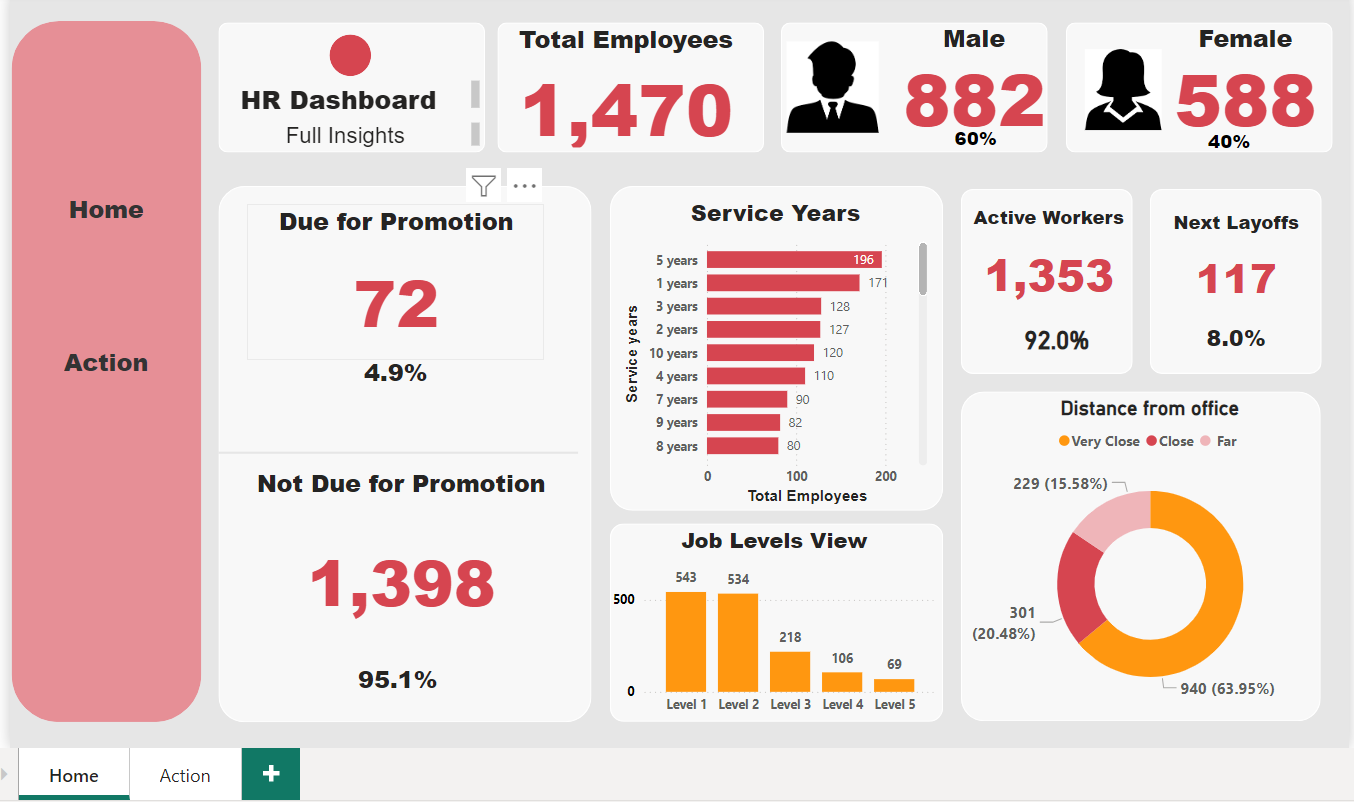

This screenshot's page, from the dashboard's own definition file:
{"tool":"powerbi","page":{"name":"Home","canvas":[1280,720],"ordinal":0},"visuals":[{"type":"shape","box":[198.8,27,254.5,124.1],"z":0},{"type":"shape","box":[466,27,254.5,124.1],"z":1000},{"type":"shape","box":[736.5,27,254.5,124.1],"z":2000},{"type":"shape","box":[1008.4,27,254.5,124.1],"z":3000},{"type":"shape","box":[198.8,182.9,356.3,512.2],"z":4000},{"type":"shape","box":[572.6,182.9,318.1,310.2],"z":5000},{"type":"shape","box":[572.6,505.8,318.1,189.3],"z":6000},{"type":"shape","box":[908.2,186.1,163.8,176.6],"z":7000},{"type":"shape","box":[1088,186.1,163.8,176.6],"z":8000},{"type":"shape","box":[908.2,380.2,343.6,314.9],"z":9000},{"type":"textbox","box":[257.7,117.7,195.6,33.4],"z":10000},{"type":"shape","box":[305.4,38.2,39.8,39.8],"z":11000},{"type":"card","title":"Total Employees","fields":{"Values":["All Measures.Total Emp"]},"box":[470.8,27,233.8,124.1],"z":12000},{"type":"textbox","box":[198.8,77.9,254.5,39.8],"z":13000},{"type":"card","title":"Male","fields":{"Values":["All Measures.Male"]},"box":[823.9,25.4,194.1,108.2],"z":14000},{"type":"card","title":"Female","fields":{"Values":["All Measures.Female"]},"box":[1078.4,25.4,202,108.2],"z":15000},{"type":"card","fields":{"Values":["All Measures.% male"]},"box":[804.8,77.9,233.8,124.1],"z":16000},{"type":"card","fields":{"Values":["All Measures.% Female"]},"box":[1046.6,79.5,233.8,124.1],"z":17000},{"type":"image","box":[736.5,36.6,98.6,103.4],"z":18000},{"type":"image","box":[1018,47.7,89.1,87.5],"z":19000},{"type":"card","title":"Due for Promotion","fields":{"Values":["All Measures.Due for promotion"]},"box":[225.9,200.4,284.7,149.5],"z":20000},{"type":"card","fields":{"Values":["All Measures.% Due for Promotion"]},"box":[233.8,308.6,268.8,108.2],"z":21000},{"type":"shape","box":[198.8,275.2,343.6,326.1],"z":22000},{"type":"card","title":"Not Due for Promotion","fields":{"Values":["All Measures.Not Due"]},"box":[205.2,451.7,337.2,181.3],"z":23000},{"type":"card","fields":{"Values":["All Measures.% No Due"]},"box":[259.3,602.8,221.1,105],"z":24000},{"type":"barChart","title":"Service Years","fields":{"Category":["HR Analytics Data.Service Year"],"Y":["All Measures.Total Emp"]},"box":[582.2,194.1,299,299],"z":25000},{"type":"columnChart","title":" Job Levels View","fields":{"Category":["HR Analytics Data.Job Levels"],"Y":["All Measures.Total Emp"]},"box":[570.7,506.5,319.4,189],"z":26000},{"type":"card","title":"Active Workers","fields":{"Values":["All Measures.On service"]},"box":[913,200.4,159.1,108.2],"z":27000},{"type":"card","fields":{"Values":["All Measures.% on service"]},"box":[935.3,299,127.2,60.4],"z":28000},{"type":"card","title":"Next Layoffs","fields":{"Values":["All Measures.layoffs"]},"box":[1100.1,204.8,141.8,104.6],"z":29000},{"type":"card","fields":{"Values":["All Measures.% Layoff"]},"box":[1123,303.8,95.4,50.9],"z":30000},{"type":"donutChart","title":" Distance from office","fields":{"Category":["HR Analytics Data.Distance Status"],"Y":["All Measures.Total Emp"]},"box":[916.2,383.3,343.6,307],"z":31000},{"type":"actionButton","box":[52.5,214.7,100.2,44.5],"z":32000},{"type":"actionButton","box":[52.5,354.7,100.2,44.5],"z":33000},{"type":"shape","box":[1.6,25.4,181.3,669.6],"z":34000},{"type":"actionButton","box":[41.4,182.9,100.2,44.5],"z":35000},{"type":"actionButton","box":[41.4,329.3,100.2,44.5],"z":36000}]}

Visuals, with their boxes on the page's 1280x720 design canvas (x1, y1, x2, y2). These are canvas units, not pixel positions in the 1354x802 screenshot, which may show the page scaled, cropped or inside an application window:
shape: locate(199, 27, 453, 151)
shape: locate(466, 27, 720, 151)
shape: locate(736, 27, 991, 151)
shape: locate(1008, 27, 1263, 151)
shape: locate(199, 183, 555, 695)
shape: locate(573, 183, 891, 493)
shape: locate(573, 506, 891, 695)
shape: locate(908, 186, 1072, 363)
shape: locate(1088, 186, 1252, 363)
shape: locate(908, 380, 1252, 695)
textbox: locate(258, 118, 453, 151)
shape: locate(305, 38, 345, 78)
"Total Employees" card: locate(471, 27, 705, 151)
textbox: locate(199, 78, 453, 118)
"Male" card: locate(824, 25, 1018, 134)
"Female" card: locate(1078, 25, 1280, 134)
card - All Measures.% male: locate(805, 78, 1039, 202)
card - All Measures.% Female: locate(1047, 80, 1280, 204)
image: locate(736, 37, 835, 140)
image: locate(1018, 48, 1107, 135)
"Due for Promotion" card: locate(226, 200, 511, 350)
card - All Measures.% Due for Promotion: locate(234, 309, 503, 417)
shape: locate(199, 275, 542, 601)
"Not Due for Promotion" card: locate(205, 452, 542, 633)
card - All Measures.% No Due: locate(259, 603, 480, 708)
"Service Years" barChart: locate(582, 194, 881, 493)
" Job Levels View" columnChart: locate(571, 506, 890, 696)
"Active Workers" card: locate(913, 200, 1072, 309)
card - All Measures.% on service: locate(935, 299, 1062, 359)
"Next Layoffs" card: locate(1100, 205, 1242, 309)
card - All Measures.% Layoff: locate(1123, 304, 1218, 355)
" Distance from office" donutChart: locate(916, 383, 1260, 690)
actionButton: locate(52, 215, 153, 259)
actionButton: locate(52, 355, 153, 399)
shape: locate(2, 25, 183, 695)
actionButton: locate(41, 183, 142, 227)
actionButton: locate(41, 329, 142, 374)
